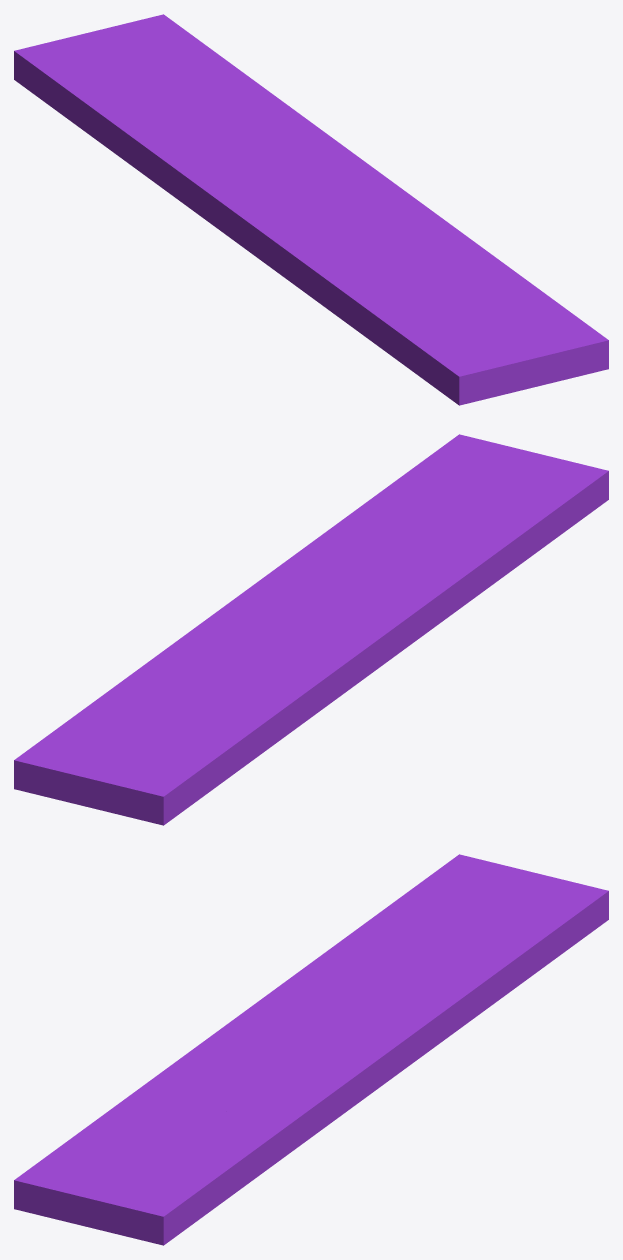
The model's file is StairsStep_136_chunks.fbx.
3 views of the same model, one above another, from view 1: azimuth 30°, elevation 25°; view 2: azimuth 150°, elevation 25°; view 3: azimuth 330°, elevation 25° (orthographic).
Visible parts, largest first — view 1: StairsStep_136_3, StairsStep_136_2, StairsStep_136_1; view 2: StairsStep_136_3, StairsStep_136_2, StairsStep_136_1; view 3: StairsStep_136_3, StairsStep_136_2, StairsStep_136_1.
Part boxes in pixels (x1=…): StairsStep_136_3: x1=14, y1=14, x2=360, y2=224; StairsStep_136_2: x1=214, y1=195, x2=560, y2=405; StairsStep_136_1: x1=315, y1=158, x2=608, y2=382; StairsStep_136_3: x1=14, y1=614, x2=365, y2=825; StairsStep_136_2: x1=308, y1=446, x2=608, y2=672; StairsStep_136_1: x1=211, y1=434, x2=507, y2=616; StairsStep_136_3: x1=259, y1=854, x2=608, y2=1061; StairsStep_136_2: x1=14, y1=1001, x2=314, y2=1231; StairsStep_136_1: x1=108, y1=1035, x2=414, y2=1245.
Size of the model in its own units: 157 by 28.98 by 810.
